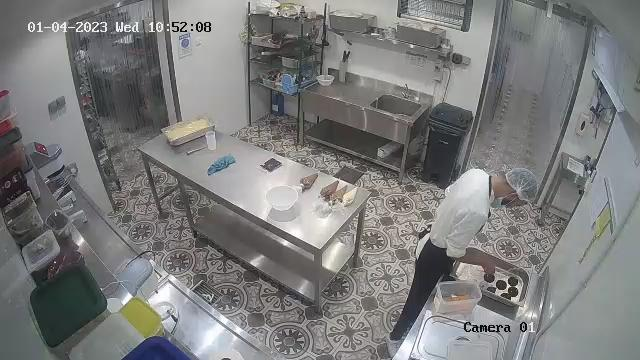apron: (419, 218, 461, 266)
